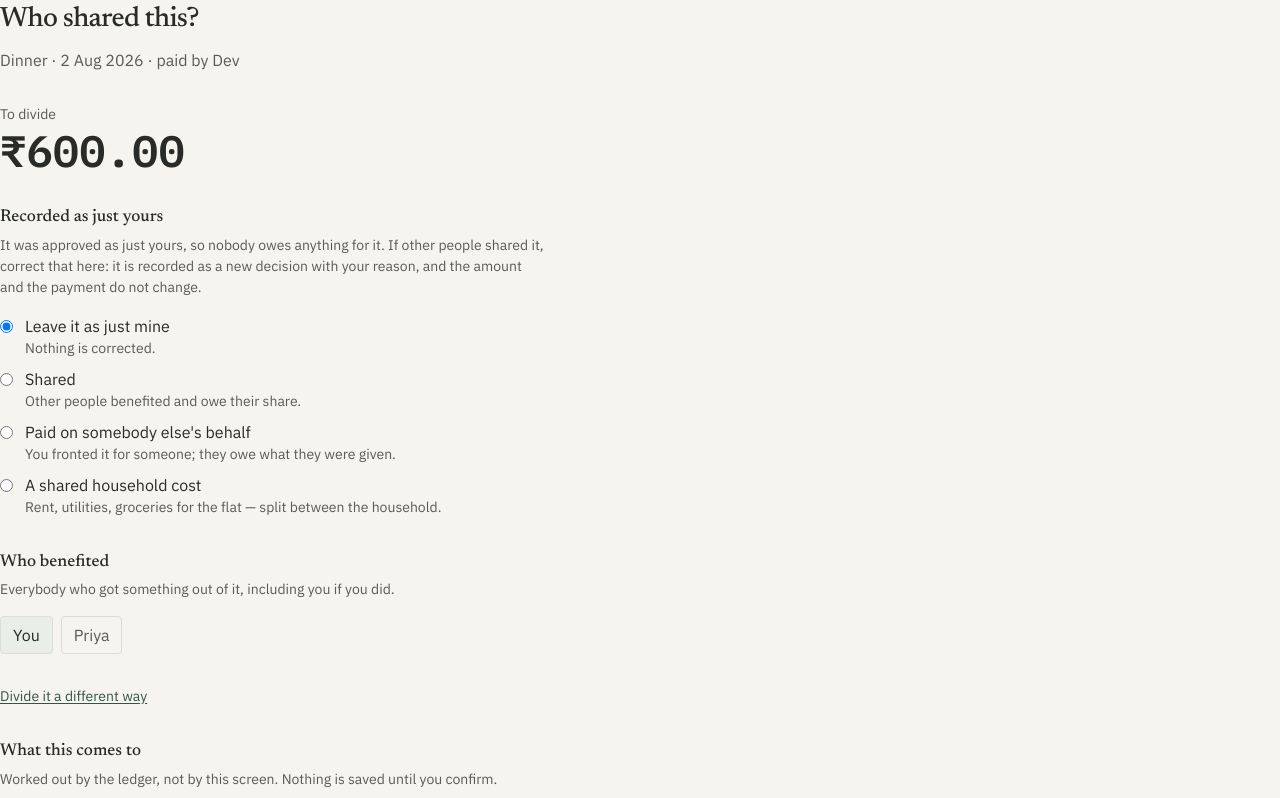
it: correcting an expense approved as just yours › states the consequence, requires a reason, and sends the kind it showed
Expected: the heading "Recorded as just yours" is shown, [0,209,163,226]
Click the radio button labelled "Shared Other people benefited and owe their share." at (6, 379), box [0,372,13,386]
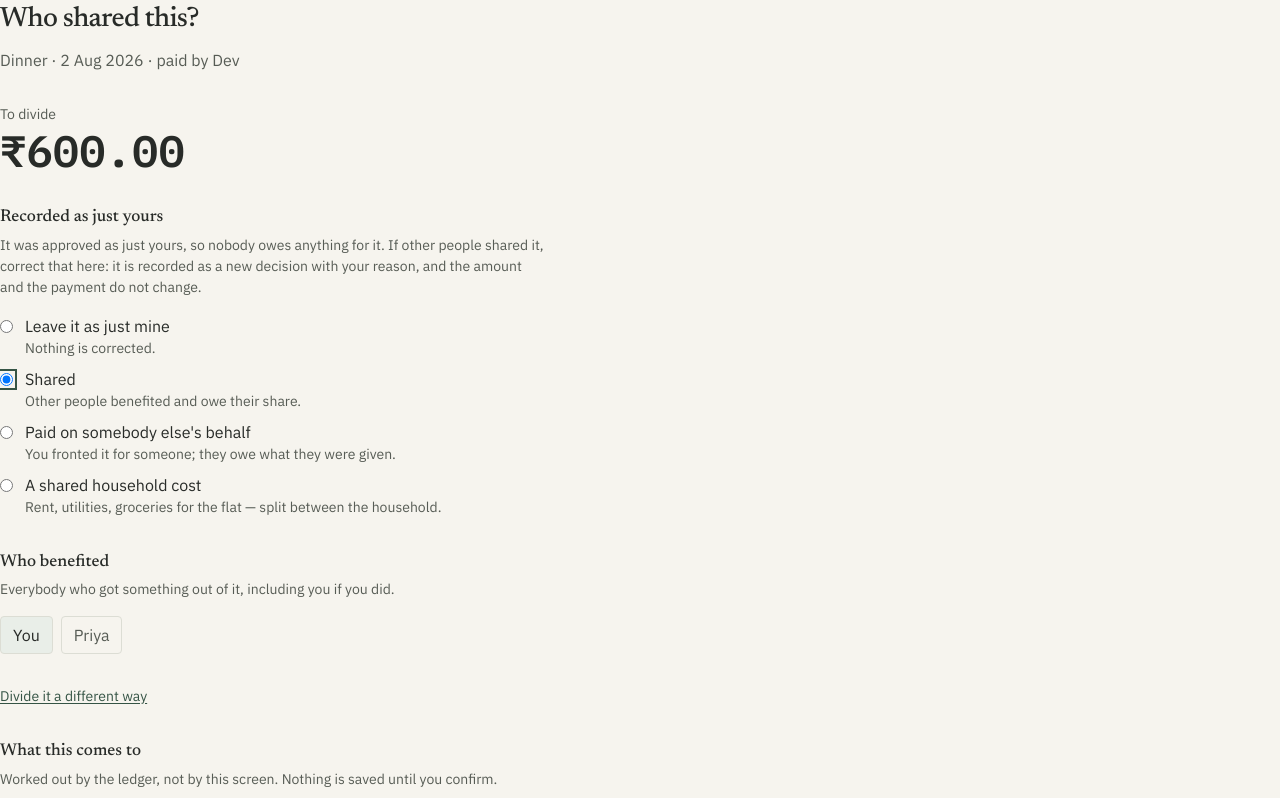
Click the button "Priya" at (92, 635), box [61,616,122,654]
(page scrolled)
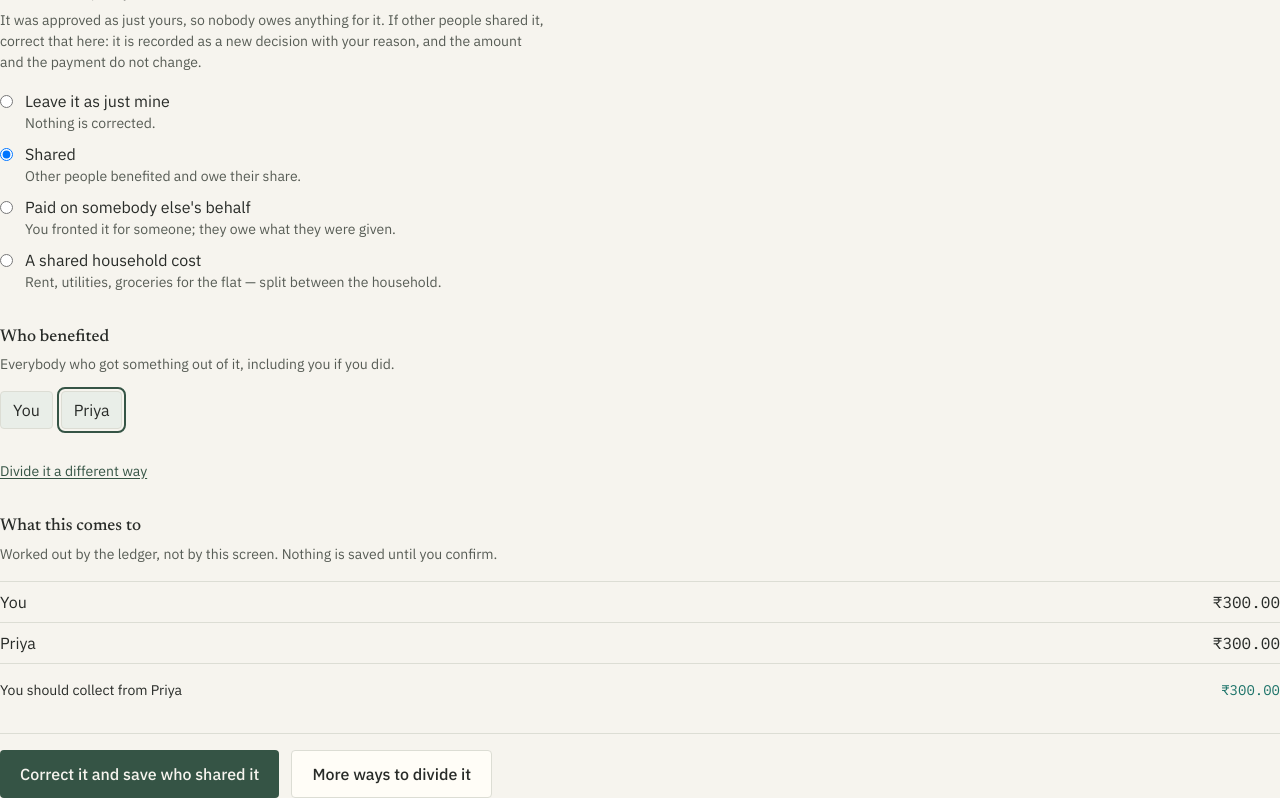
Now the text "You should collect from Priya" is shown, box [0,680,182,700]
Click the button "Correct it and save who shared it" at (140, 774), box [0,750,280,797]
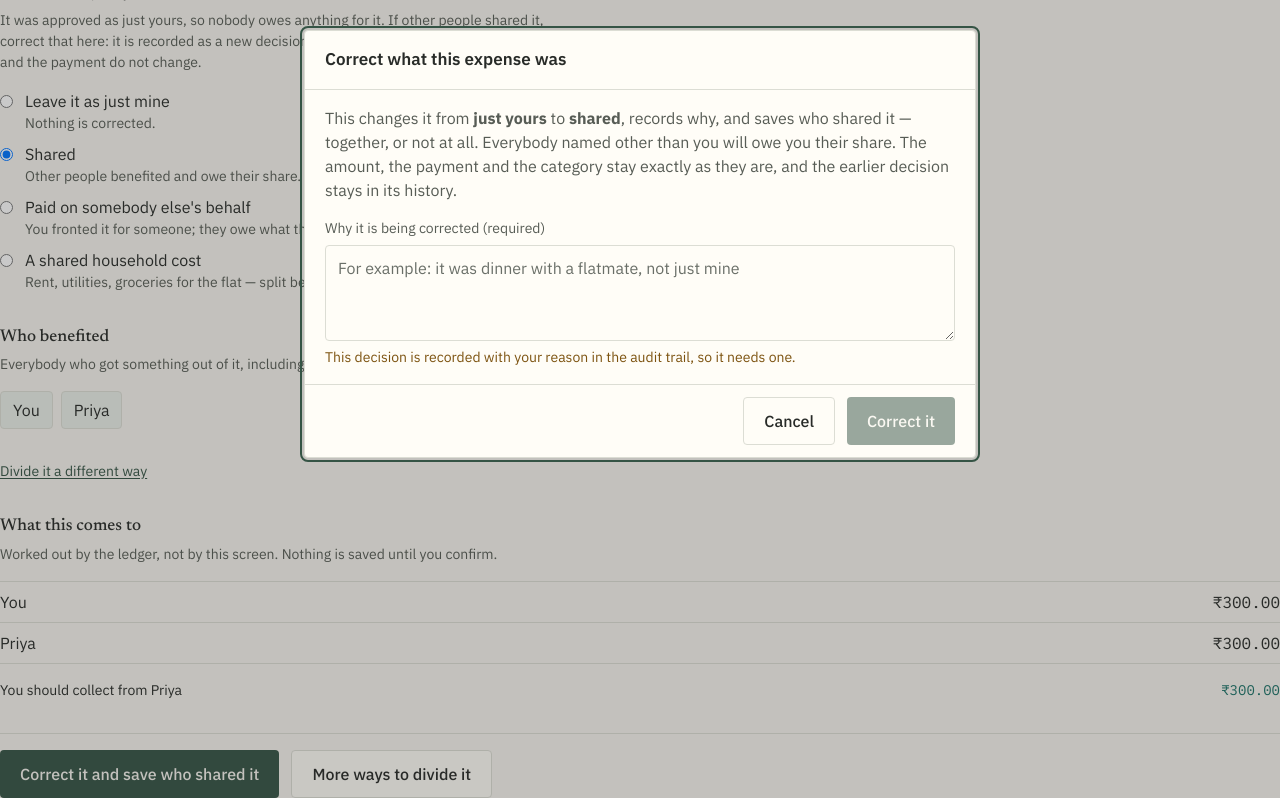
Now the dialog shows "from just yours to shared", box [304,30,976,458]
Now the dialog shows "together, or not at all", box [325,108,912,152]
Now the dialog shows "will owe you their share", box [482,132,896,152]
Type "Dinner with Priya" into the text box labelled "Why it is being corrected (required)" at (640, 292), box [325,244,955,340]
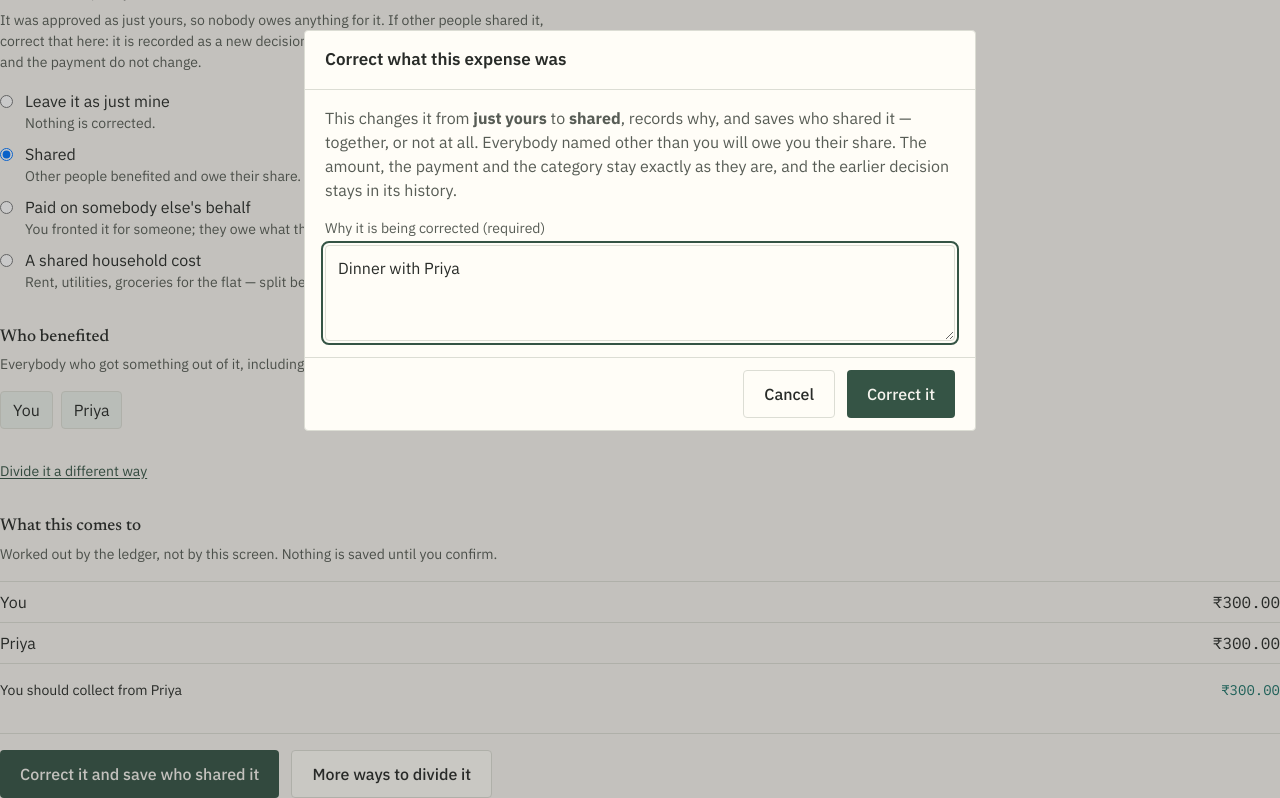
Click the button "Correct it" at (901, 394), box [847,370,955,418]
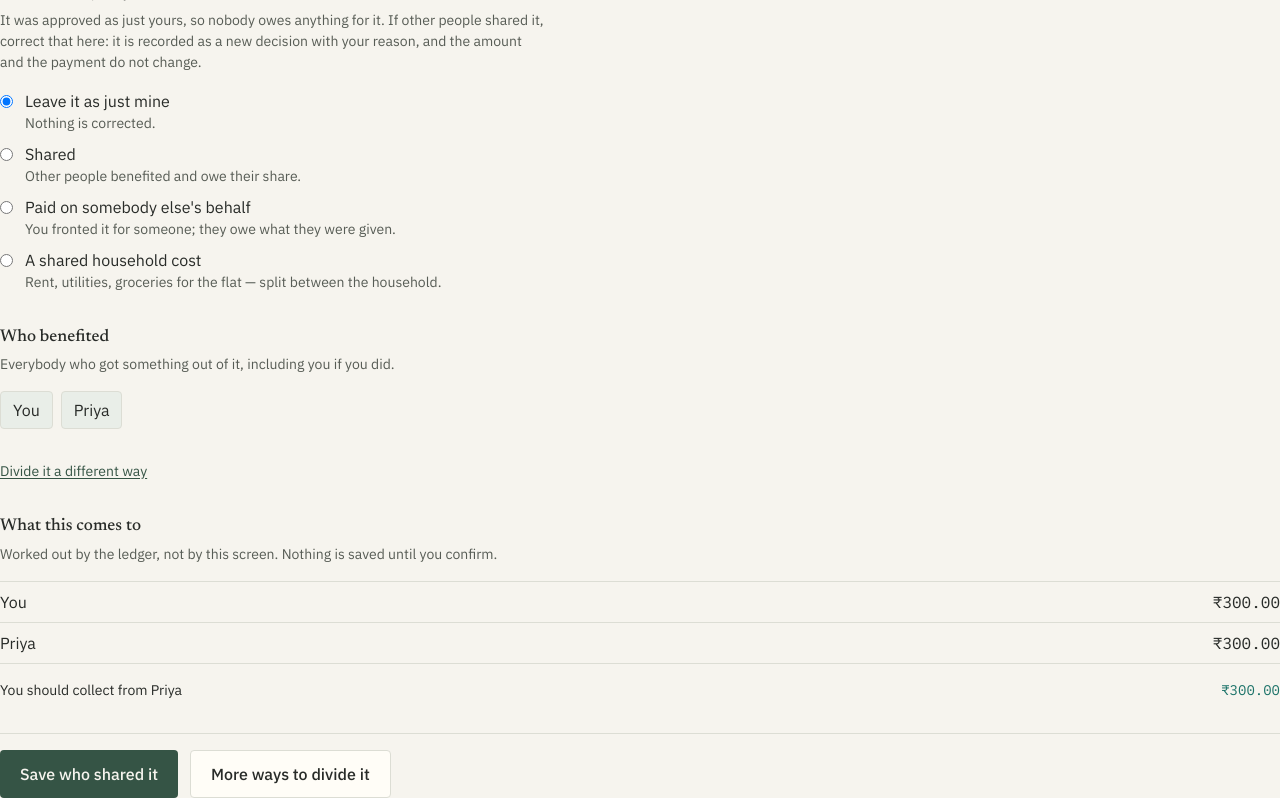
Now the dialog is gone
